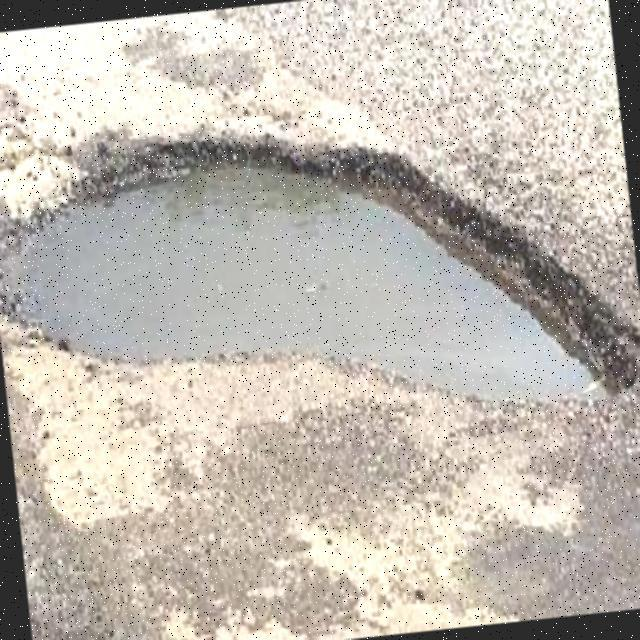Pothole: (0, 143, 640, 401)
